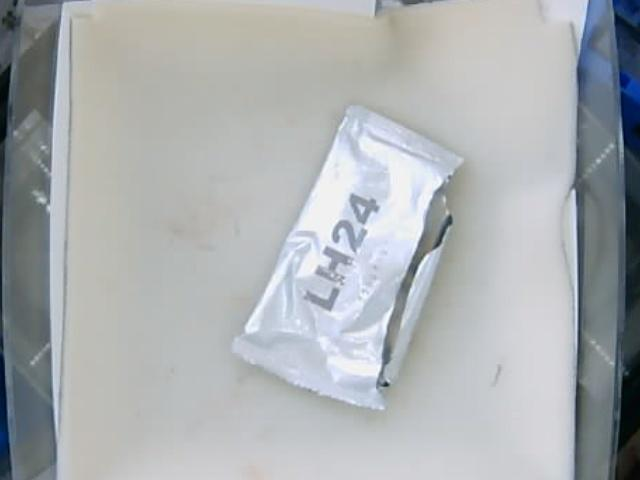Medicine: (235, 103, 464, 409)
